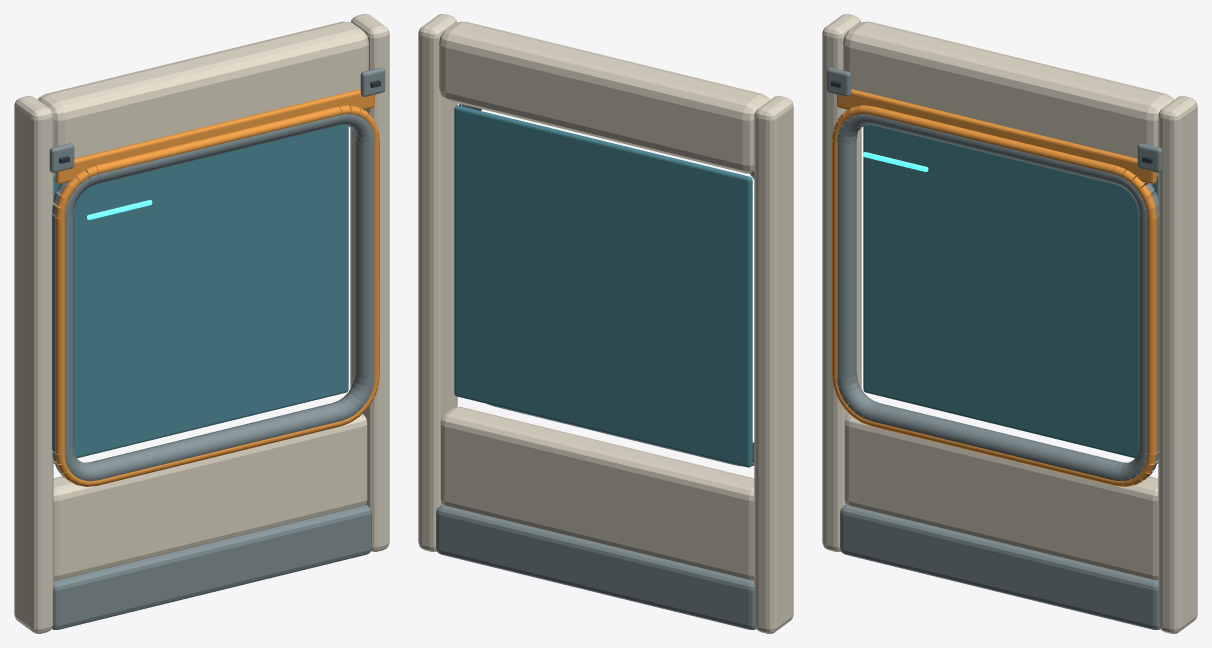
File: window-2m.glb
3 renders of one model, left to right at view 1: azimuth 30°, elevation 25°; view 2: azimuth 150°, elevation 25°; view 3: azimuth 330°, elevation 25°, orthographic.
Visible parts, largest first — view 1: window-2m__ivory, window-2m__glass, window-2m__steel, window-2m__orange; view 2: window-2m__ivory, window-2m__glass, window-2m__steel; view 3: window-2m__ivory, window-2m__glass, window-2m__steel, window-2m__orange.
Boxes of the visible parts, box(x1,y1,x2,y2) form: window-2m__ivory: box(14, 14, 389, 633); window-2m__glass: box(53, 124, 348, 463); window-2m__steel: box(49, 67, 385, 629); window-2m__orange: box(55, 89, 379, 486); window-2m__ivory: box(418, 14, 793, 633); window-2m__glass: box(454, 105, 752, 467); window-2m__steel: box(436, 104, 755, 629); window-2m__ivory: box(822, 14, 1197, 633); window-2m__glass: box(863, 124, 1158, 463); window-2m__steel: box(826, 67, 1162, 629); window-2m__orange: box(832, 89, 1156, 486).
Bounding box in the file's own units: 2 × 2.8 × 0.3.
